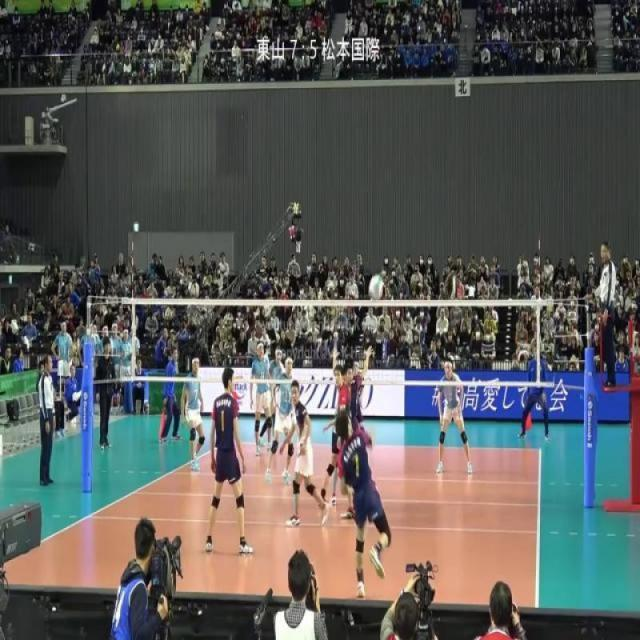volleyball: (368, 272, 384, 300)
